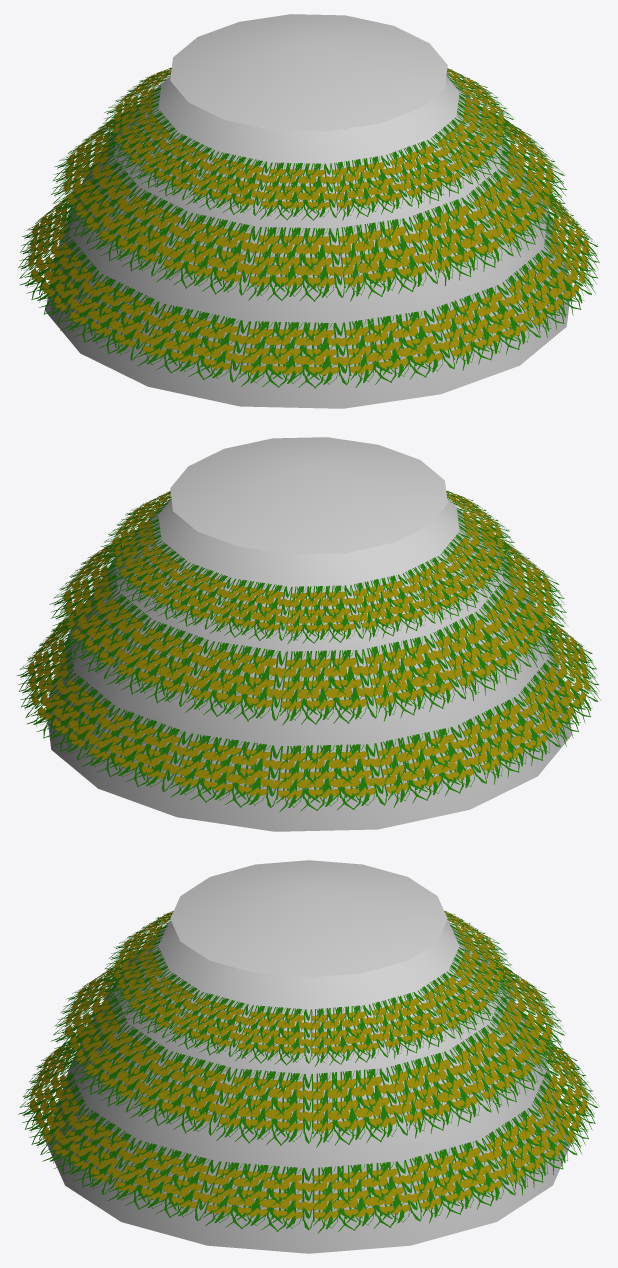
The model's file is Hay_Round.fbx.
3 views of the same model, one above another, from view 1: azimuth 30°, elevation 25°; view 2: azimuth 150°, elevation 25°; view 3: azimuth 270°, elevation 25° (orthographic).
Parts seen in each view (by area): view 1: Hay_Unmerged1_pCube24; view 2: Hay_Unmerged1_pCube24; view 3: Hay_Unmerged1_pCube24.
Part boxes in pixels (bbox=[...]): Hay_Unmerged1_pCube24: bbox=[18, 14, 599, 408]; Hay_Unmerged1_pCube24: bbox=[17, 437, 600, 831]; Hay_Unmerged1_pCube24: bbox=[18, 860, 599, 1253].
Bounding box in the file's own units: 4.49 × 2.13 × 4.49.
